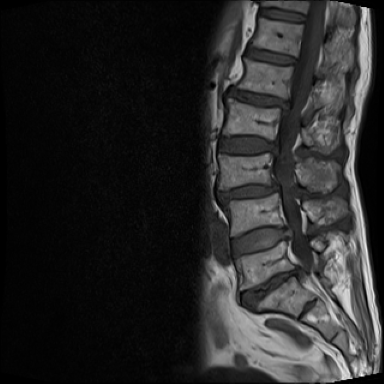Degenerative Disc Disease (DDD): (234, 264, 309, 316)
Lumbar Disc Bulge (LDB): (228, 221, 297, 263), (221, 83, 294, 116), (216, 178, 288, 210), (214, 132, 281, 160)
Normal IVD: (242, 43, 299, 69), (257, 6, 307, 25)
Spinal Stenosis (SS): (267, 178, 285, 202), (274, 97, 295, 117), (282, 220, 295, 248), (267, 137, 283, 159), (289, 261, 305, 283)
Spondylolisthesis: (207, 172, 300, 218)
